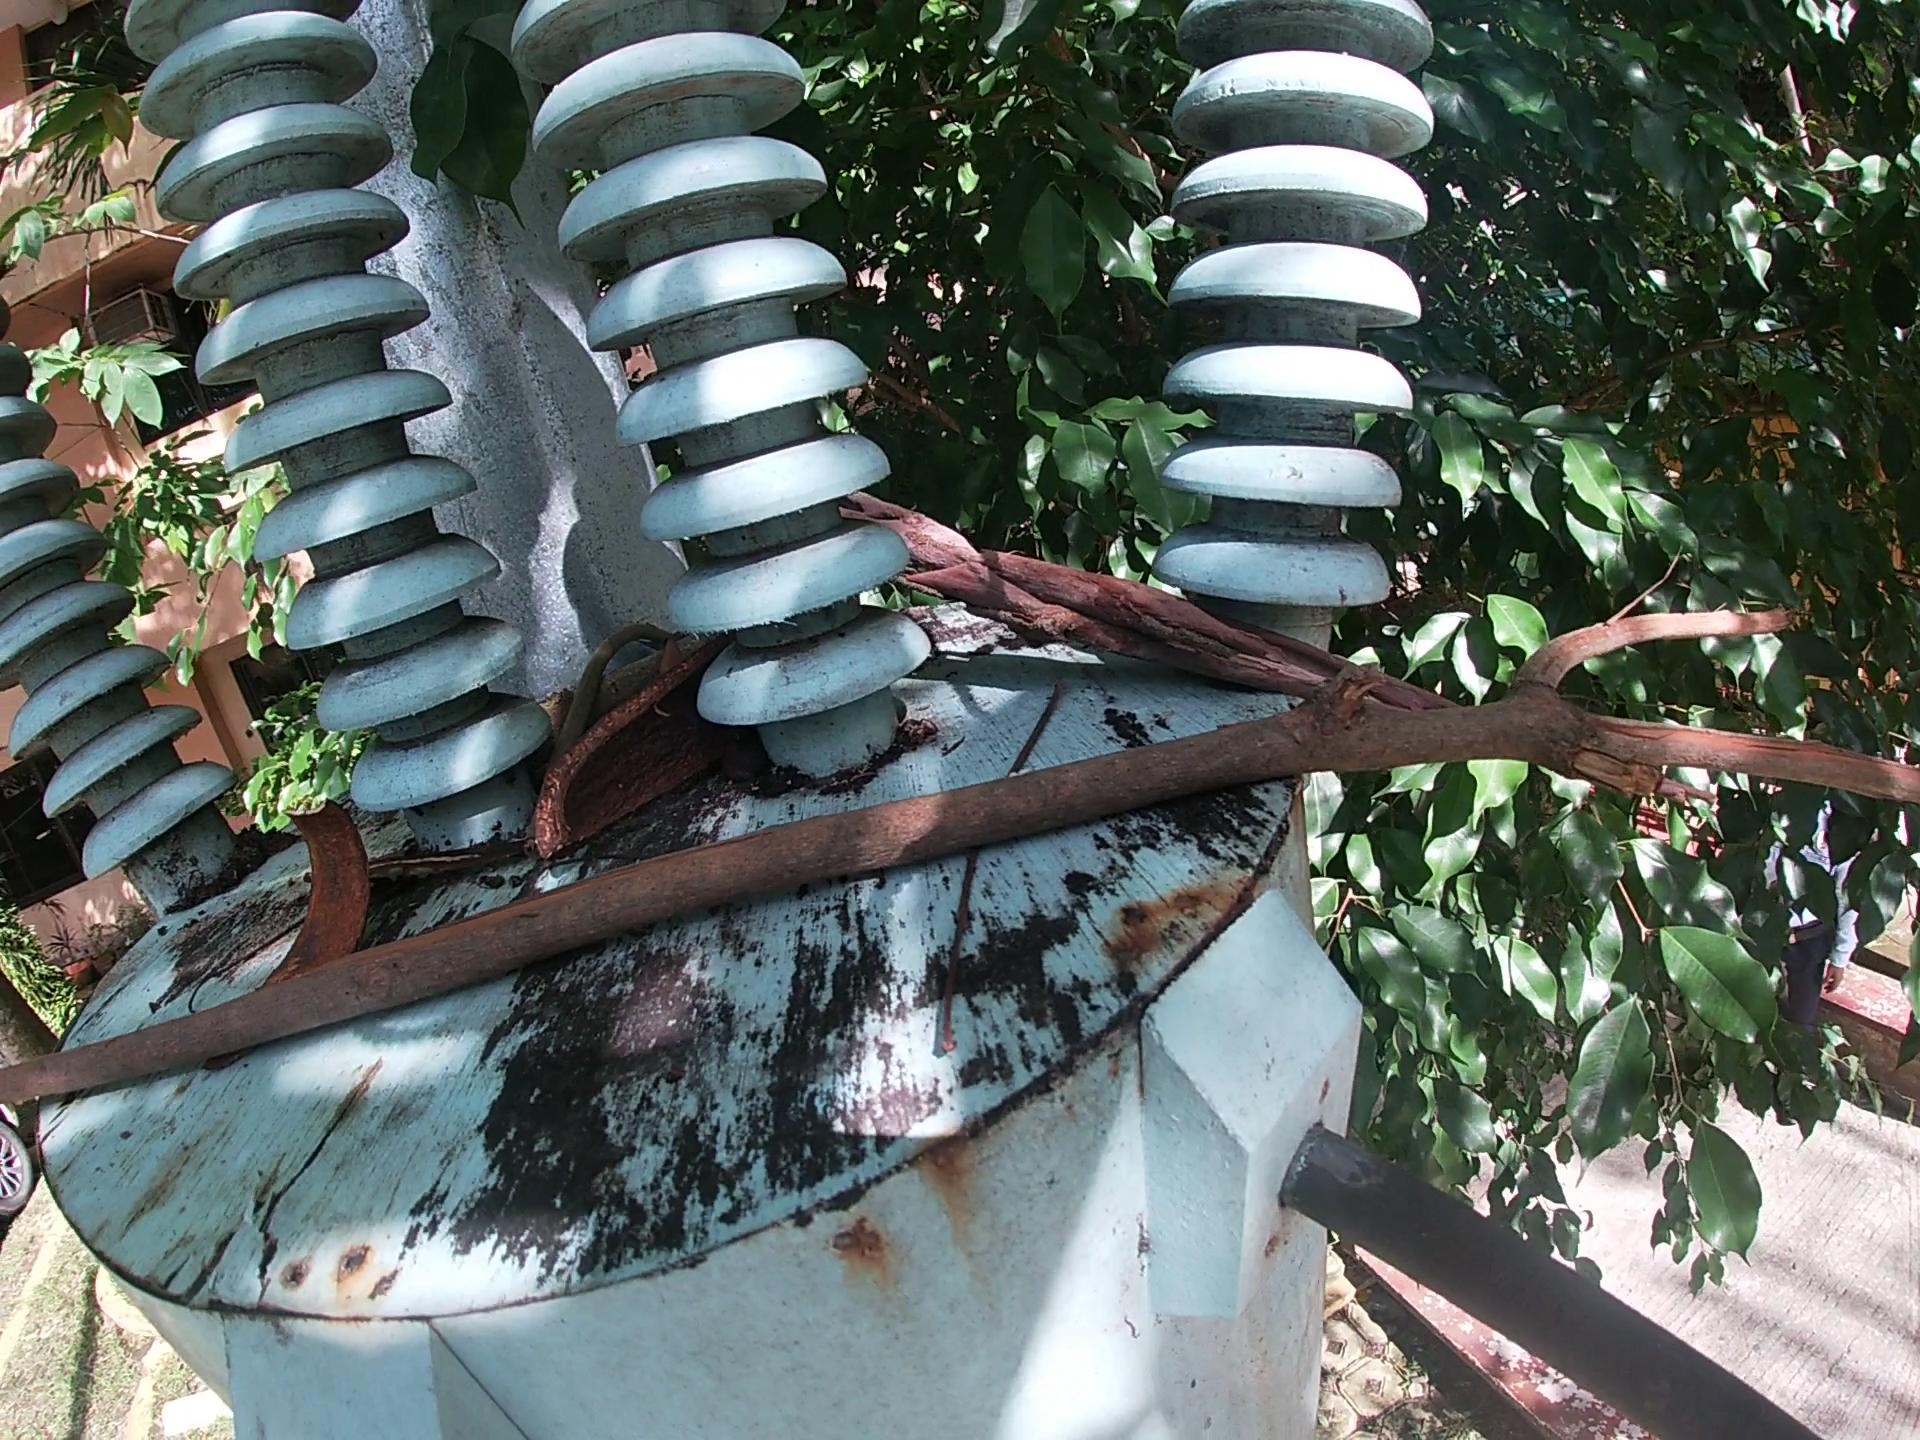mahogany fruit: (532, 653, 741, 874), (257, 793, 376, 982)
tree branch: (5, 585, 1920, 1125), (838, 492, 1448, 700), (906, 853, 993, 1078), (543, 617, 691, 746), (535, 640, 715, 729), (181, 908, 308, 1010), (373, 832, 519, 892), (1002, 679, 1084, 771)
